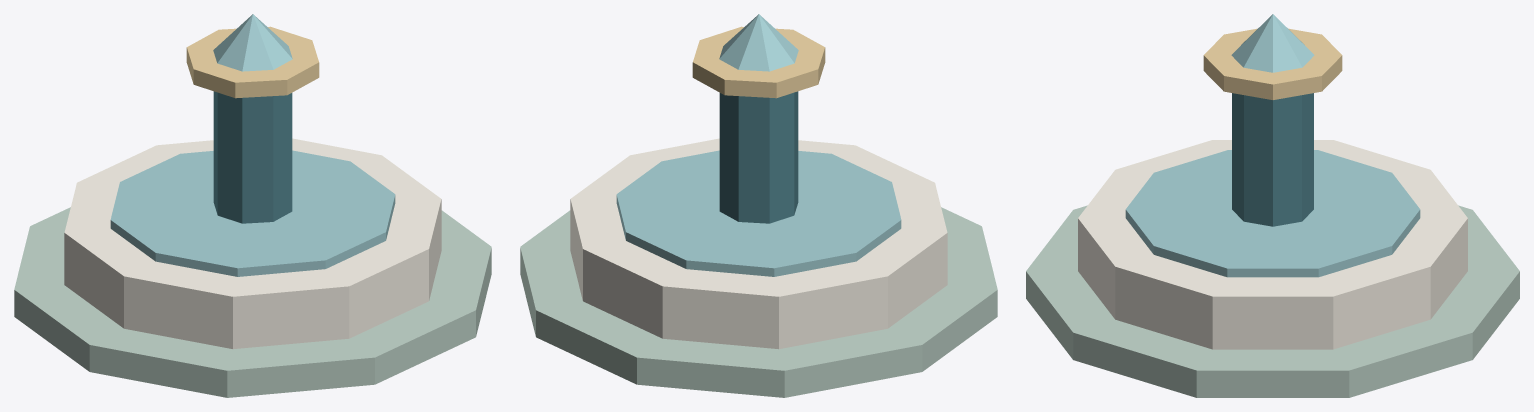
Rendered from well-fountain.glb.
The picture shows the model from 3 angles, left to right: view 1: azimuth 30°, elevation 25°; view 2: azimuth 150°, elevation 25°; view 3: azimuth 270°, elevation 25°; orthographic projection.
Visible parts, largest first — view 1: well-fountain; view 2: well-fountain; view 3: well-fountain.
Boxes of the visible parts, x1,y1,x2,y2 form: well-fountain: (14, 14, 491, 397); well-fountain: (520, 14, 997, 397); well-fountain: (1026, 14, 1519, 397).
Bounding box in the file's own units: 1.08 × 0.725 × 1.14.
